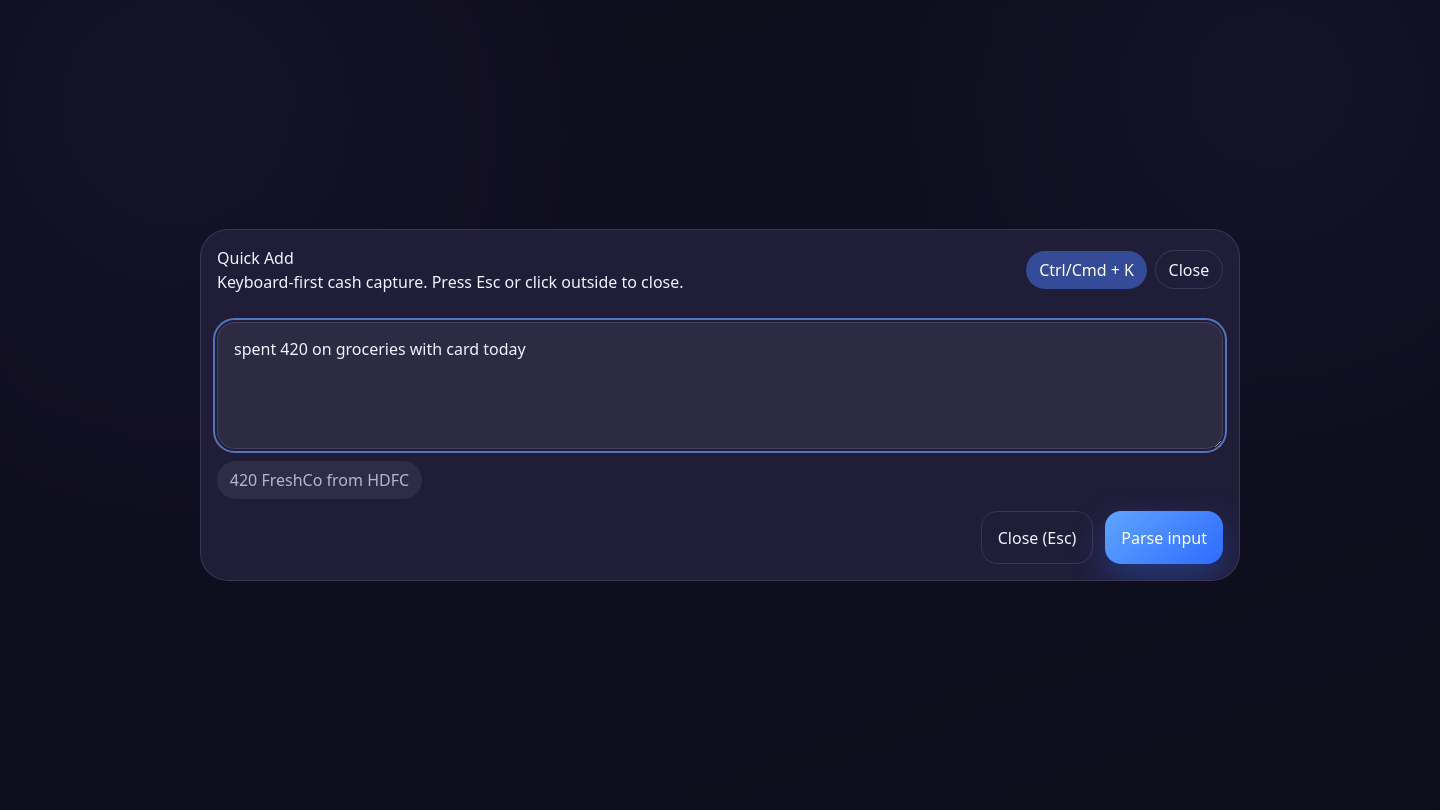
Test: QuickAddPalette › loads a suggested pattern into the textarea
Click the button "420 FreshCo from HDFC" at (319, 480), box [217,461,422,499]
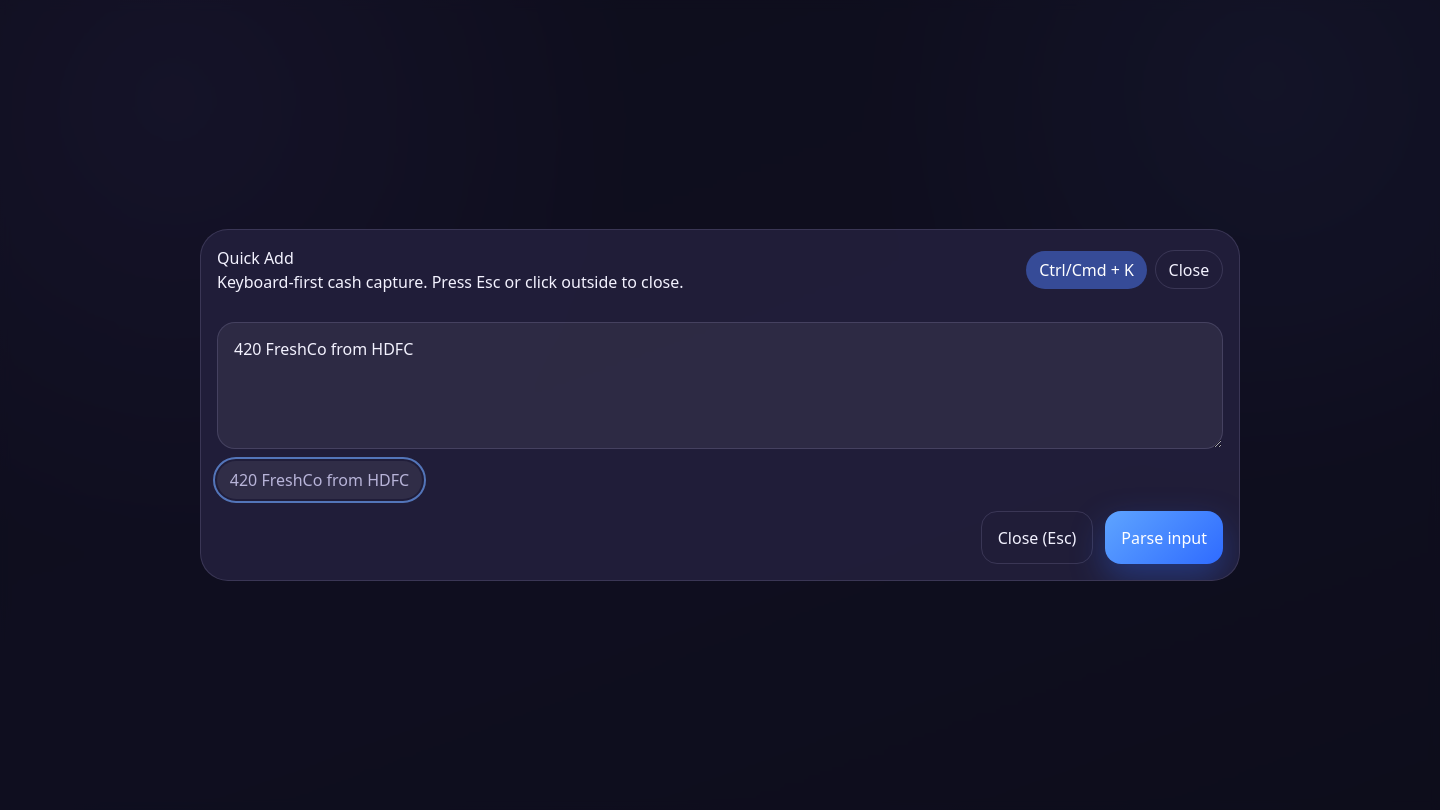
Now the text box with placeholder "500 groceries yesterday from HDFC" holds "420 FreshCo from HDFC", box [217,322,1223,449]
